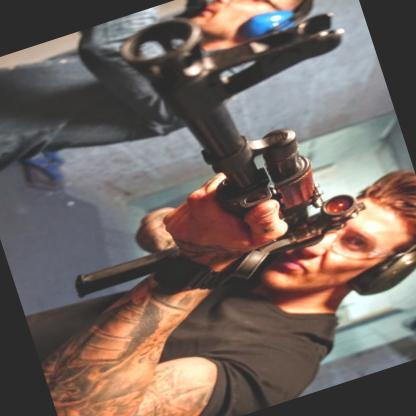rifle: (1, 0, 381, 328)
